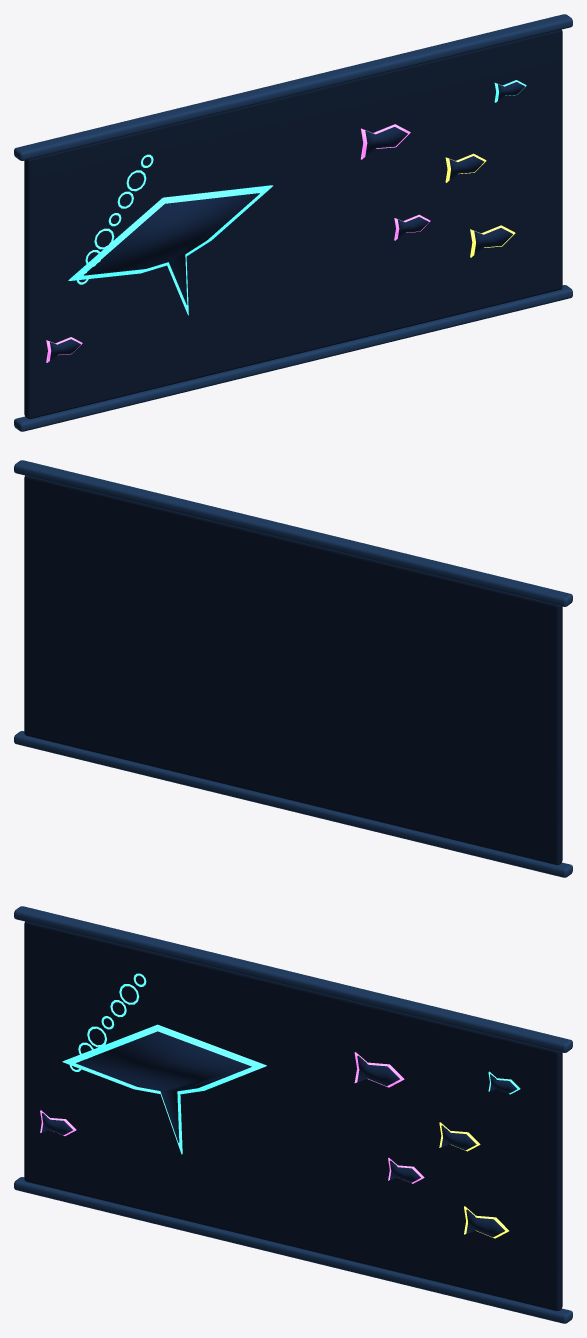
Rendered from aqua_mural.glb.
The picture shows the model from 3 angles, top to bottom: view 1: azimuth 30°, elevation 25°; view 2: azimuth 150°, elevation 25°; view 3: azimuth 330°, elevation 25°; orthographic projection.
Visible parts, largest first — view 1: Mural; view 2: Mural; view 3: Mural.
Boxes of the visible parts, x1,y1,x2,y2 form: Mural: (14,14,572,431); Mural: (14,460,572,877); Mural: (14,906,572,1323).
Bounding box in the file's own units: 6.2 × 3 × 0.165.
